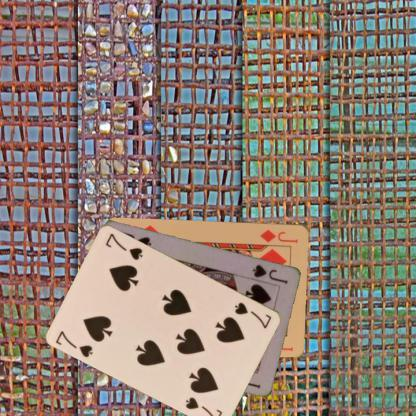7s: (232, 299, 274, 330), (53, 327, 95, 358)
Jd: (258, 226, 299, 244)
Js: (250, 262, 290, 285)
